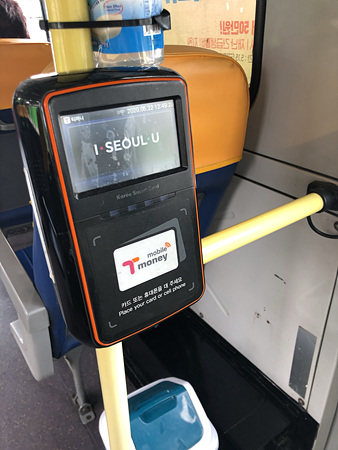terminal: (20, 69, 204, 332)
